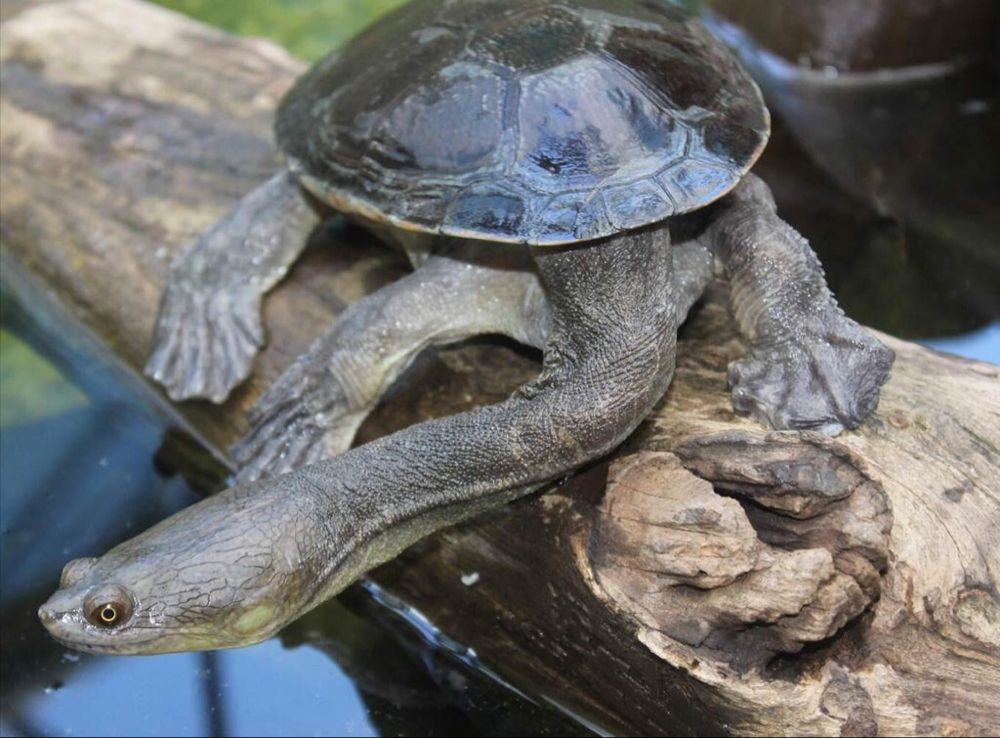eye: (85, 588, 133, 631)
mouth: (50, 629, 223, 658)
